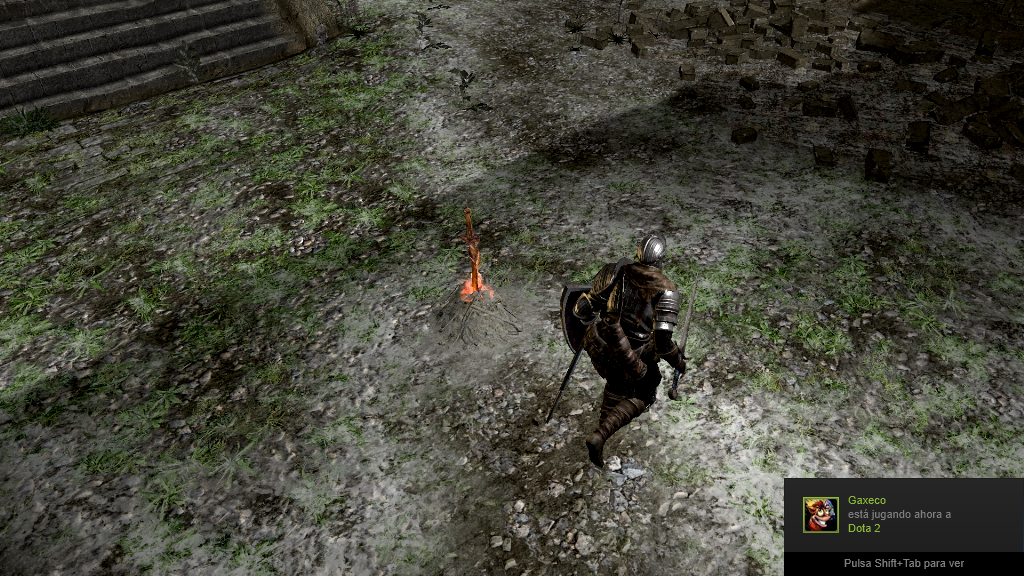bonfire: (447, 206, 499, 312)
player: (558, 230, 695, 465)
